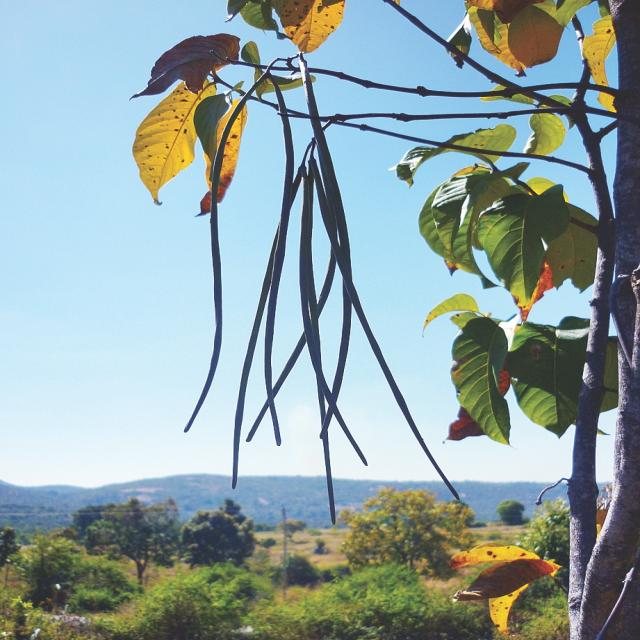Kutaja: (395, 87, 607, 433), (115, 40, 390, 286), (443, 15, 640, 253)
